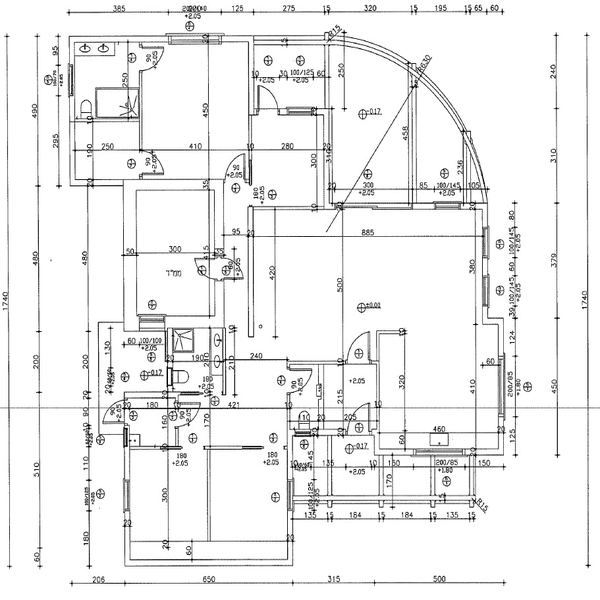door: (134, 147, 173, 184), (282, 359, 321, 396), (345, 394, 377, 439), (346, 324, 377, 365), (136, 44, 169, 76), (186, 254, 220, 284), (253, 81, 277, 116), (222, 153, 247, 186), (102, 398, 132, 425), (178, 403, 206, 431), (220, 254, 244, 282)
wall: (122, 179, 144, 334), (205, 174, 230, 254), (168, 313, 226, 335)
window: (489, 356, 508, 420), (409, 443, 468, 462), (334, 201, 412, 213), (431, 194, 467, 216), (480, 225, 497, 263), (478, 272, 495, 310), (117, 479, 134, 514), (286, 104, 317, 121), (284, 482, 299, 511)
